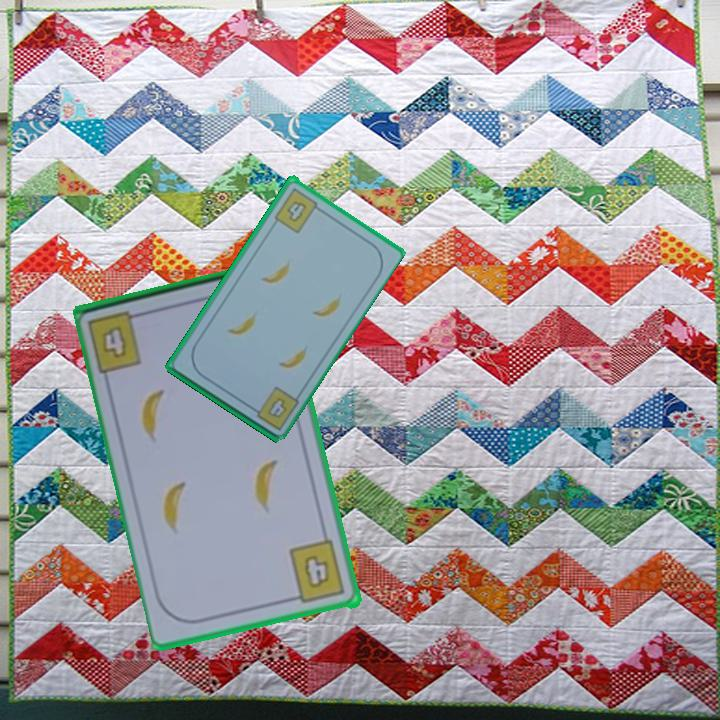4b: (286, 537, 348, 607), (271, 183, 325, 235), (246, 383, 302, 433), (99, 325, 130, 362)
